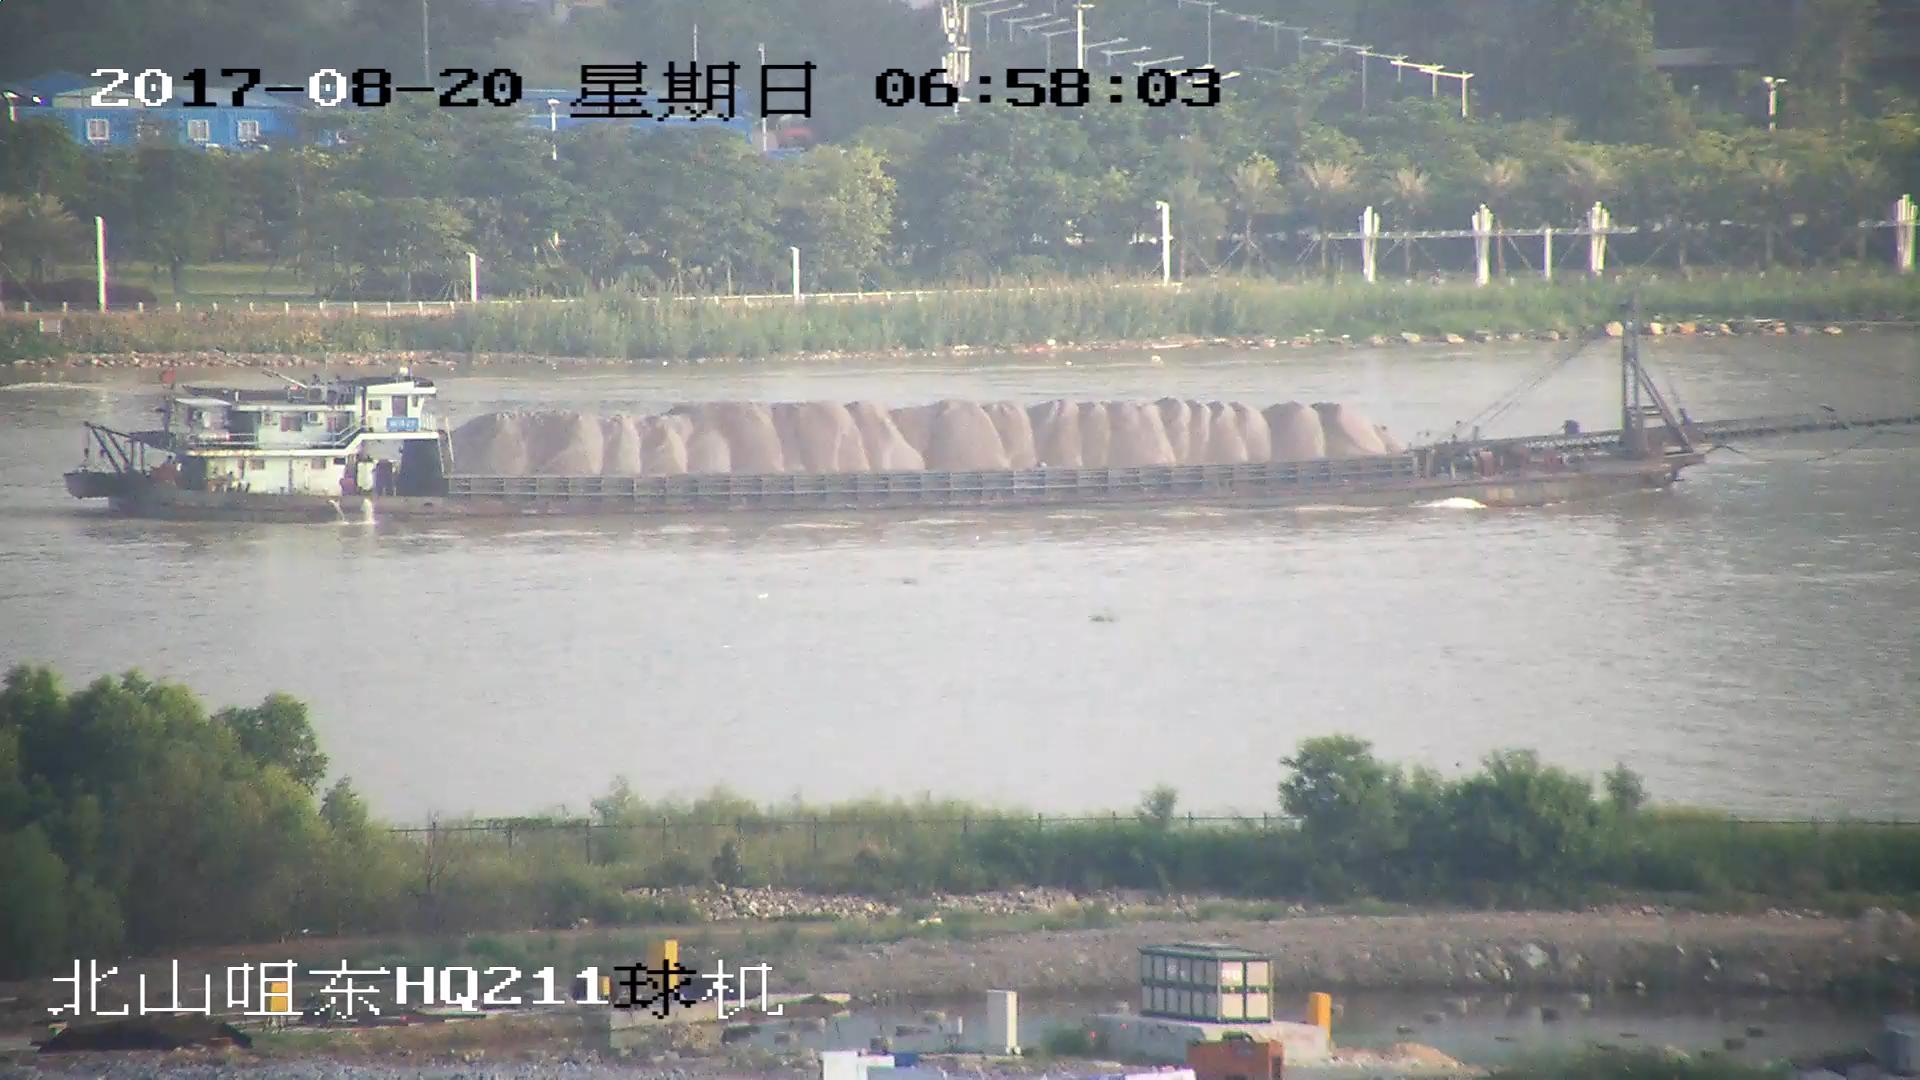Ship: (67, 293, 1920, 530)
